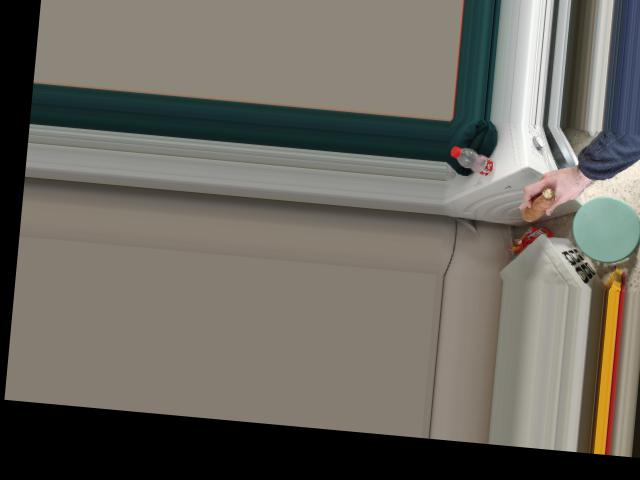sweet_potato: (517, 181, 560, 223)
